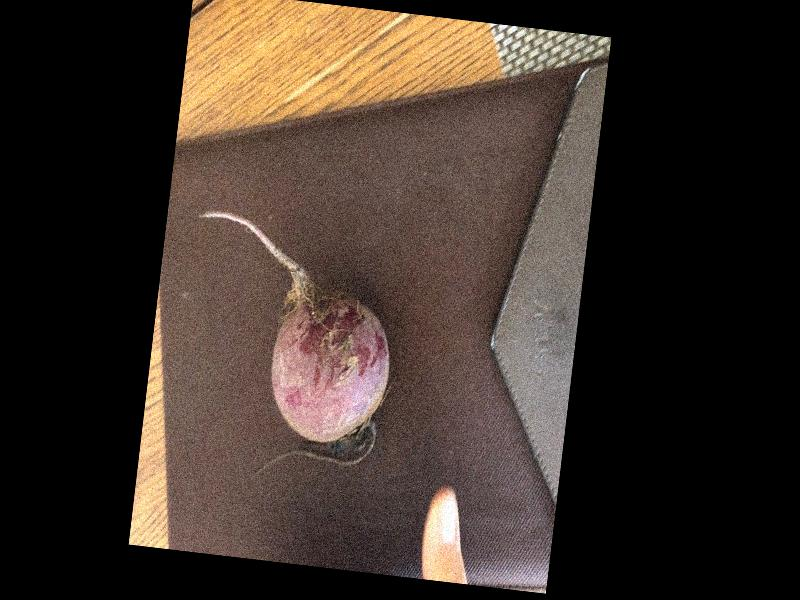Beet: (171, 208, 405, 488)
